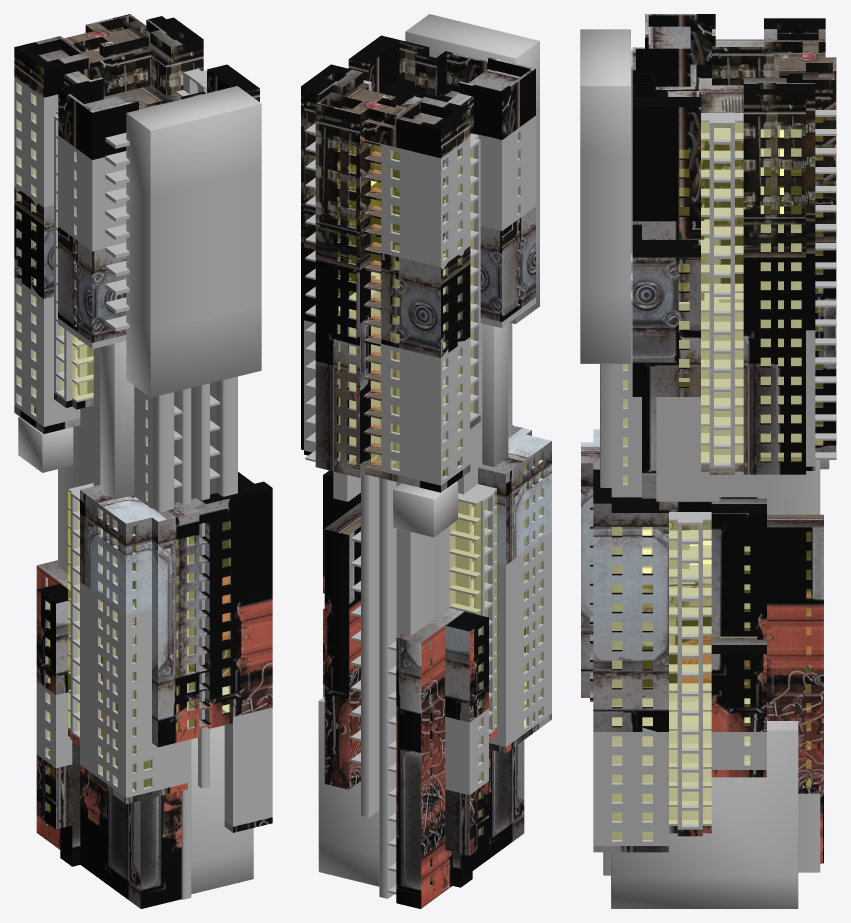
The model's file is Cyberpunk Building V4.fbx.
The picture shows the model from 3 angles, left to right: view 1: azimuth 30°, elevation 25°; view 2: azimuth 150°, elevation 25°; view 3: azimuth 270°, elevation 25°; orthographic projection. The views are drawn at different scales.
Visible parts, largest first — view 1: Cyberpunk Building V4; view 2: Cyberpunk Building V4; view 3: Cyberpunk Building V4.
Boxes of the visible parts, x1,y1,x2,y2 form: Cyberpunk Building V4: [14, 14, 272, 908]; Cyberpunk Building V4: [301, 14, 551, 908]; Cyberpunk Building V4: [580, 14, 836, 908].
Bounding box in the file's own units: 1794 × 8374 × 2370.
